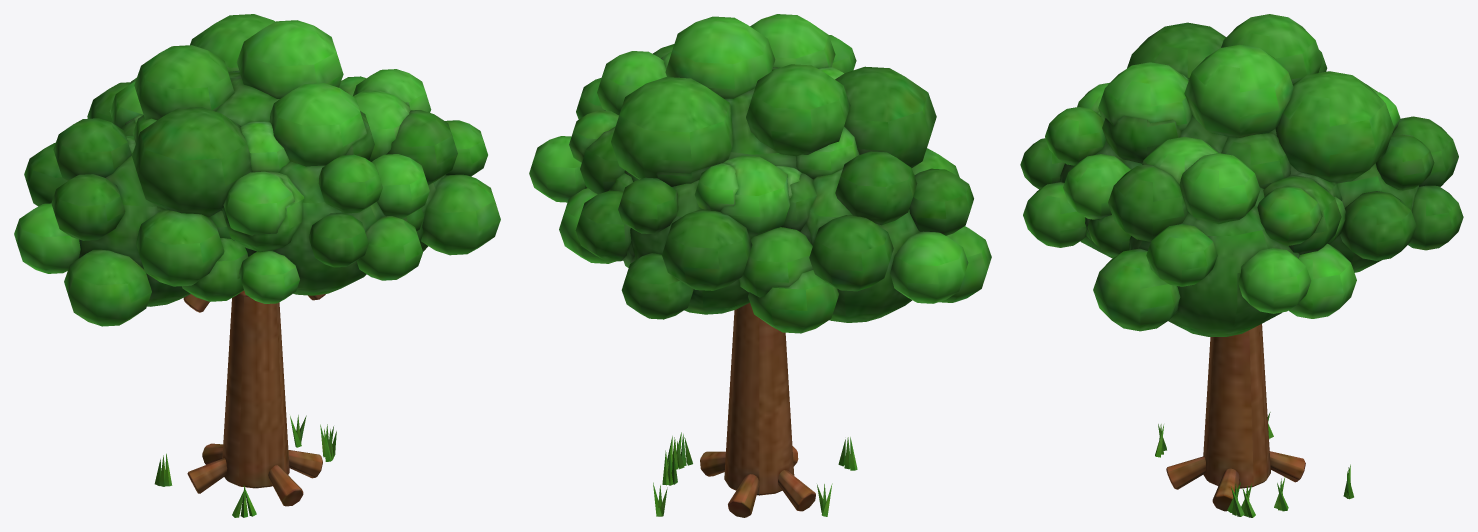
Rendered from fig_tree.glb.
The picture shows the model from 3 angles, left to right: view 1: azimuth 30°, elevation 25°; view 2: azimuth 150°, elevation 25°; view 3: azimuth 270°, elevation 25°; orthographic projection. The views are drawn at different scales.
Parts seen in each view (by area): view 1: crown, fig_tree; view 2: crown, fig_tree; view 3: crown, fig_tree.
Boxes of the visible parts, x1,y1,x2,y2 form: crown: (14, 14, 500, 326); fig_tree: (154, 290, 336, 517); crown: (529, 14, 991, 333); fig_tree: (653, 303, 857, 517); crown: (1020, 14, 1463, 336); fig_tree: (1155, 324, 1353, 517).
Size of the model in its own units: 1.27 by 1.3 by 1.15.
1 material, 1 textured.
